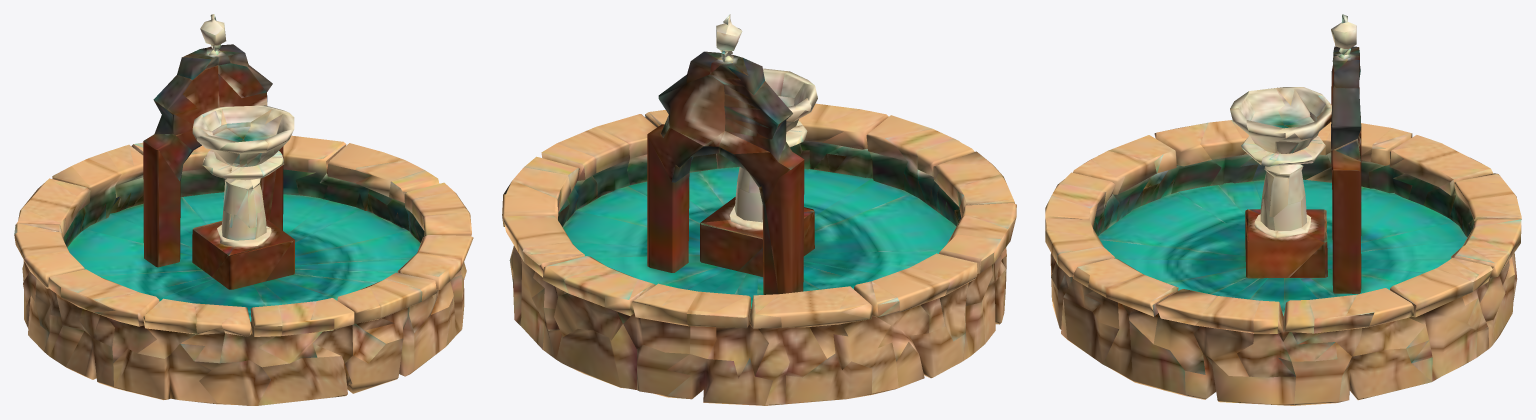
Rendered from fountain.lod1.glb.
3 views of the same model, side by side, from view 1: azimuth 30°, elevation 25°; view 2: azimuth 150°, elevation 25°; view 3: azimuth 270°, elevation 25° (orthographic). The views are drawn at different scales.
Bounding box in the file's own units: 3 × 2.04 × 3.
1 material, 1 textured.
